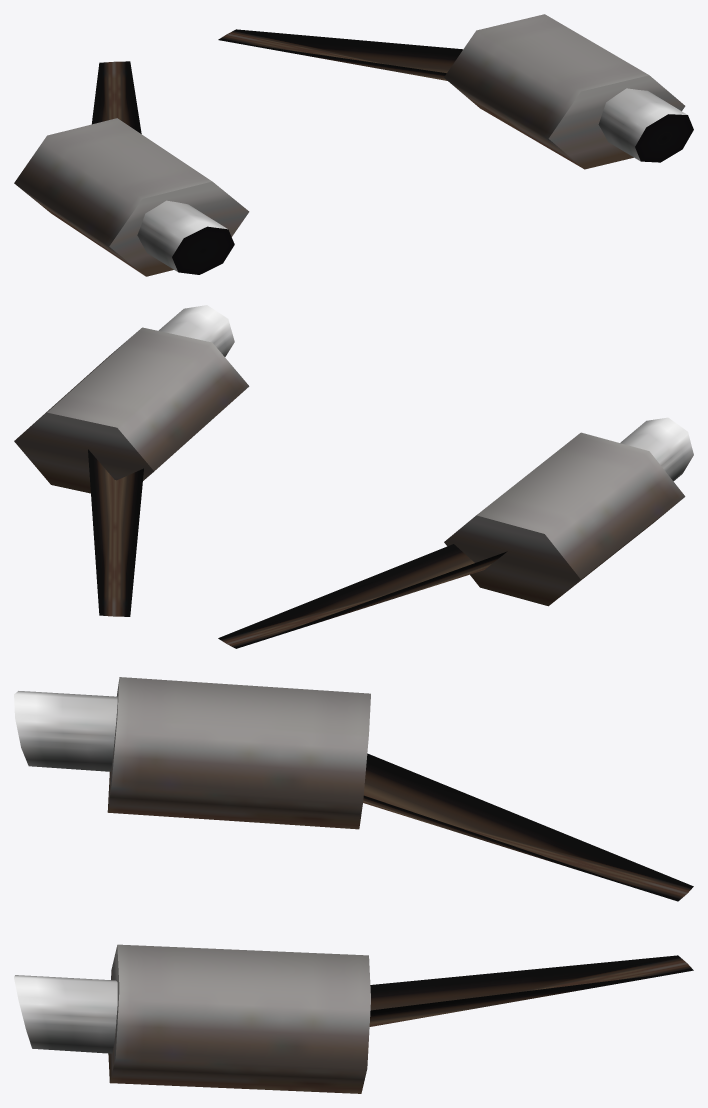
The model's file is exh_c_j.glb.
3 views of the same model, one above another, from view 1: azimuth 30°, elevation 25°; view 2: azimuth 150°, elevation 25°; view 3: azimuth 270°, elevation 25° (orthographic). The views are drawn at different scales.
Parts seen in each view (by area): view 1: exh_c_j; view 2: exh_c_j; view 3: exh_c_j.
Part boxes in pixels (x1,y1,x2,y2): exh_c_j: (14,14,693,276); exh_c_j: (14,305,693,648); exh_c_j: (14,677,693,1093).
Bounding box in the file's own units: 1.61 × 0.2331 × 1.31.
Materials: 2 (2 with a texture image).
